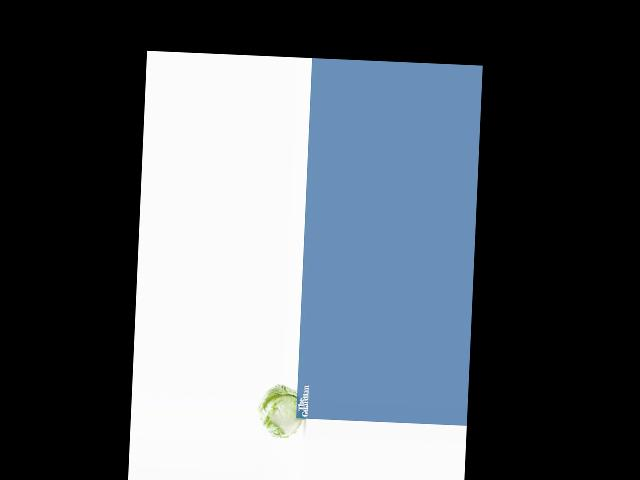lettuce: (254, 384, 303, 438)
